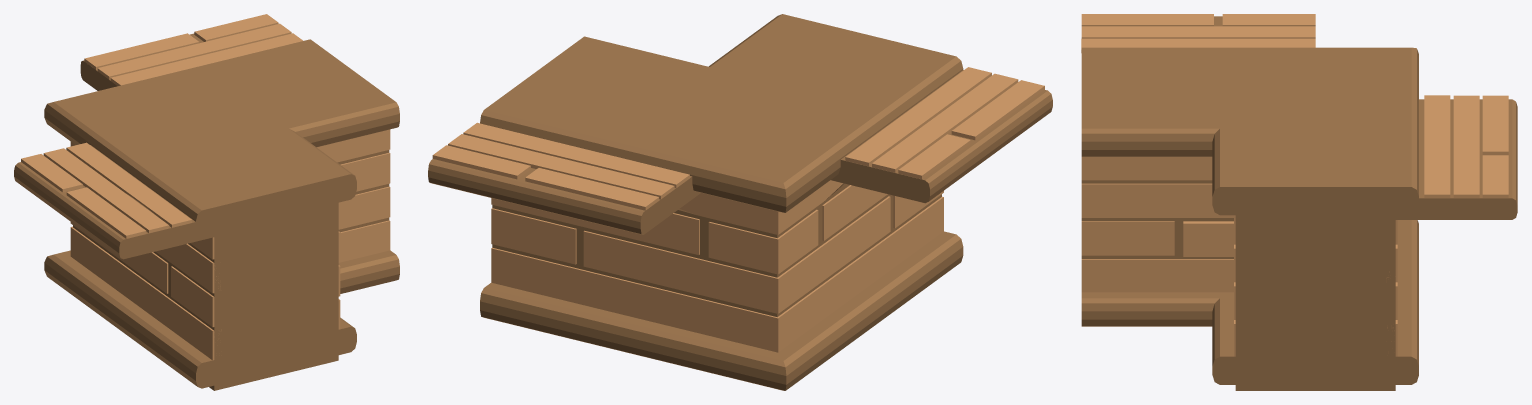
Rendered from Counter_Corner_1.fbx.
The picture shows the model from 3 angles, left to right: view 1: azimuth 30°, elevation 25°; view 2: azimuth 150°, elevation 25°; view 3: azimuth 270°, elevation 25°; orthographic projection. The views are drawn at different scales.
Parts seen in each view (by area): view 1: Environment_Counter_Corner, Environment_Counter_Straight_2.002, Environment_Counter_Straight_2.001; view 2: Environment_Counter_Corner, Environment_Counter_Straight_2.001, Environment_Counter_Straight_2.002; view 3: Environment_Counter_Corner, Environment_Counter_Straight_2.001, Environment_Counter_Straight_2.002.
Boxes of the visible parts, box(x1,y1,x2,y2) form: Environment_Counter_Corner: box(44, 39, 399, 390); Environment_Counter_Straight_2.002: box(14, 142, 215, 259); Environment_Counter_Straight_2.001: box(80, 14, 303, 90); Environment_Counter_Corner: box(480, 14, 963, 390); Environment_Counter_Straight_2.001: box(428, 122, 700, 234); Environment_Counter_Straight_2.002: box(831, 67, 1052, 203); Environment_Counter_Corner: box(1081, 47, 1418, 390); Environment_Counter_Straight_2.001: box(1394, 95, 1517, 219); Environment_Counter_Straight_2.002: box(1081, 14, 1315, 52).
Bounding box in the file's own units: 373 × 192 × 373.
